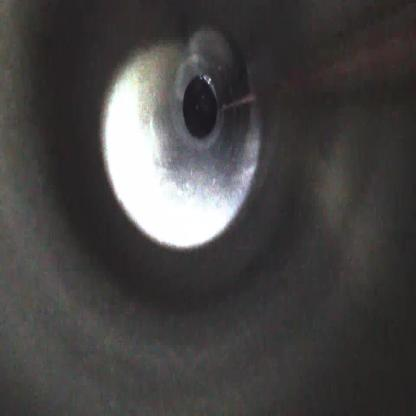NoCrack: (102, 15, 262, 248)
